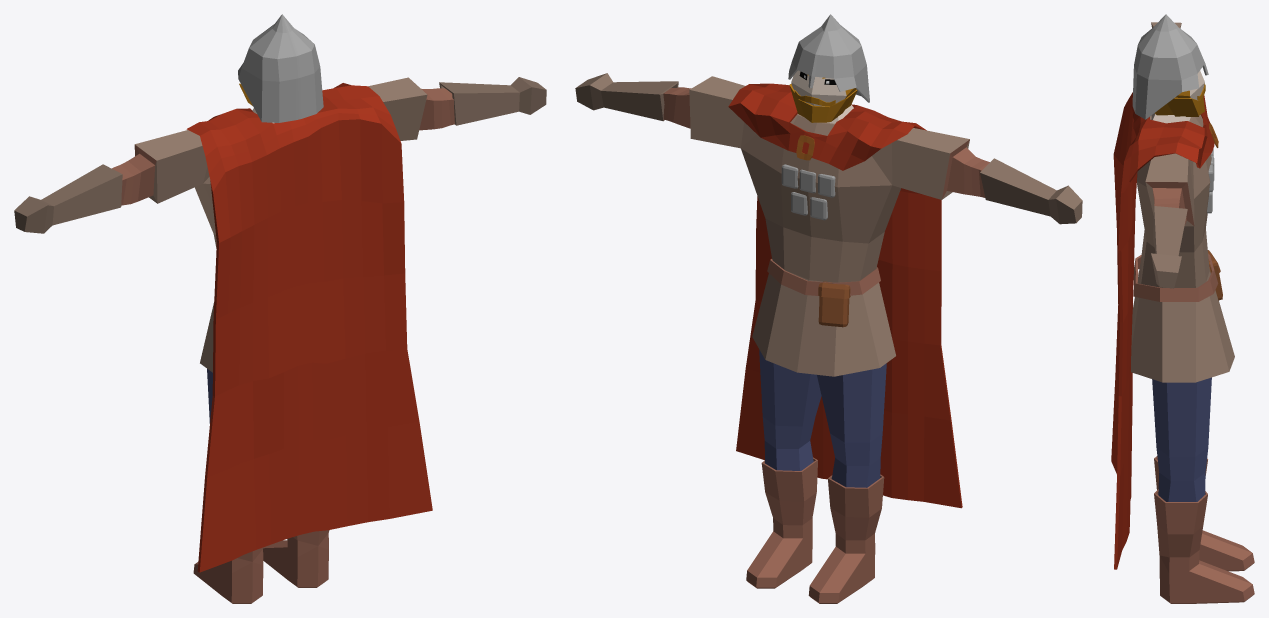
Rendered from Player.fbx.
3 views of the same model, side by side, from view 1: azimuth 30°, elevation 25°; view 2: azimuth 150°, elevation 25°; view 3: azimuth 270°, elevation 25° (orthographic). The views are drawn at different scales.
Visible parts, largest first — view 1: original.001; view 2: original.001; view 3: original.001.
Boxes of the visible parts, x1,y1,x2,y2 form: original.001: (14, 14, 546, 603); original.001: (575, 14, 1082, 603); original.001: (1111, 14, 1254, 603).
Size of the model in its own units: 190 by 201 by 46.12.
